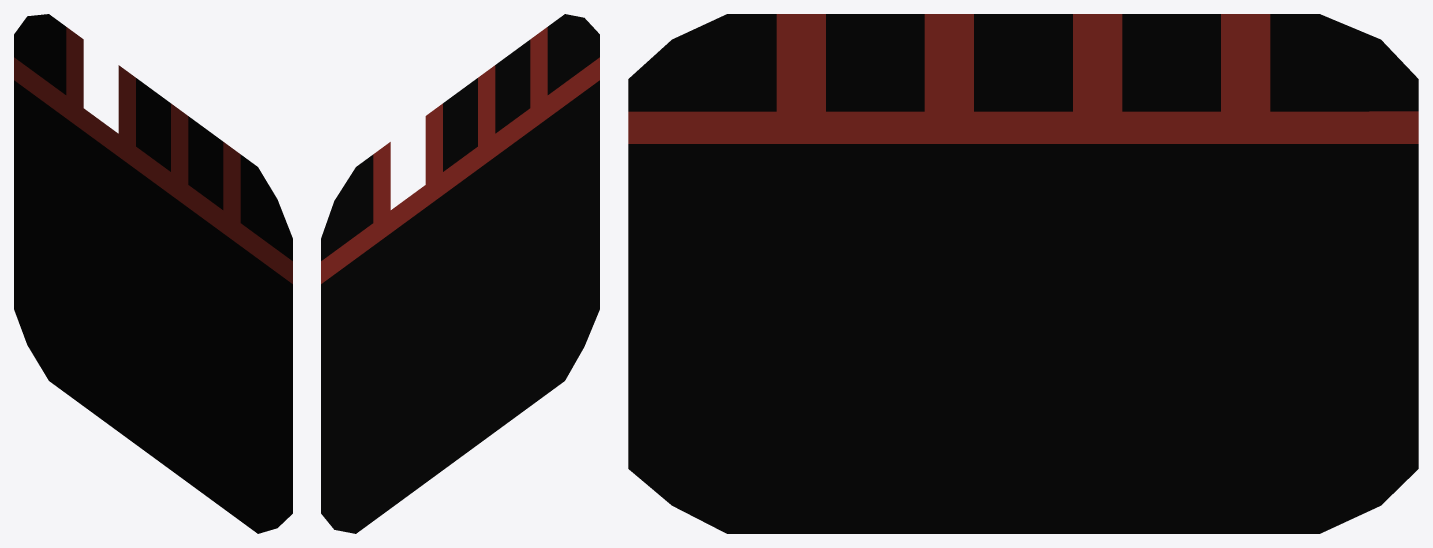
Rendered from window-rounded-corner-with-vents.dae.
3 views of the same model, side by side, from view 1: azimuth 30°, elevation 25°; view 2: azimuth 150°, elevation 25°; view 3: azimuth 270°, elevation 25° (orthographic). The views are drawn at different scales.
Visible parts, largest first — view 1: Plane_182; view 2: Plane_182; view 3: Plane_182.
Boxes of the visible parts, box(x1,y1,x2,y2) form: Plane_182: box(14, 14, 292, 533); Plane_182: box(321, 14, 599, 533); Plane_182: box(628, 14, 1418, 533).
Bounding box in the file's own units: 5.9e-07 × 0.8519 × 0.6186.
